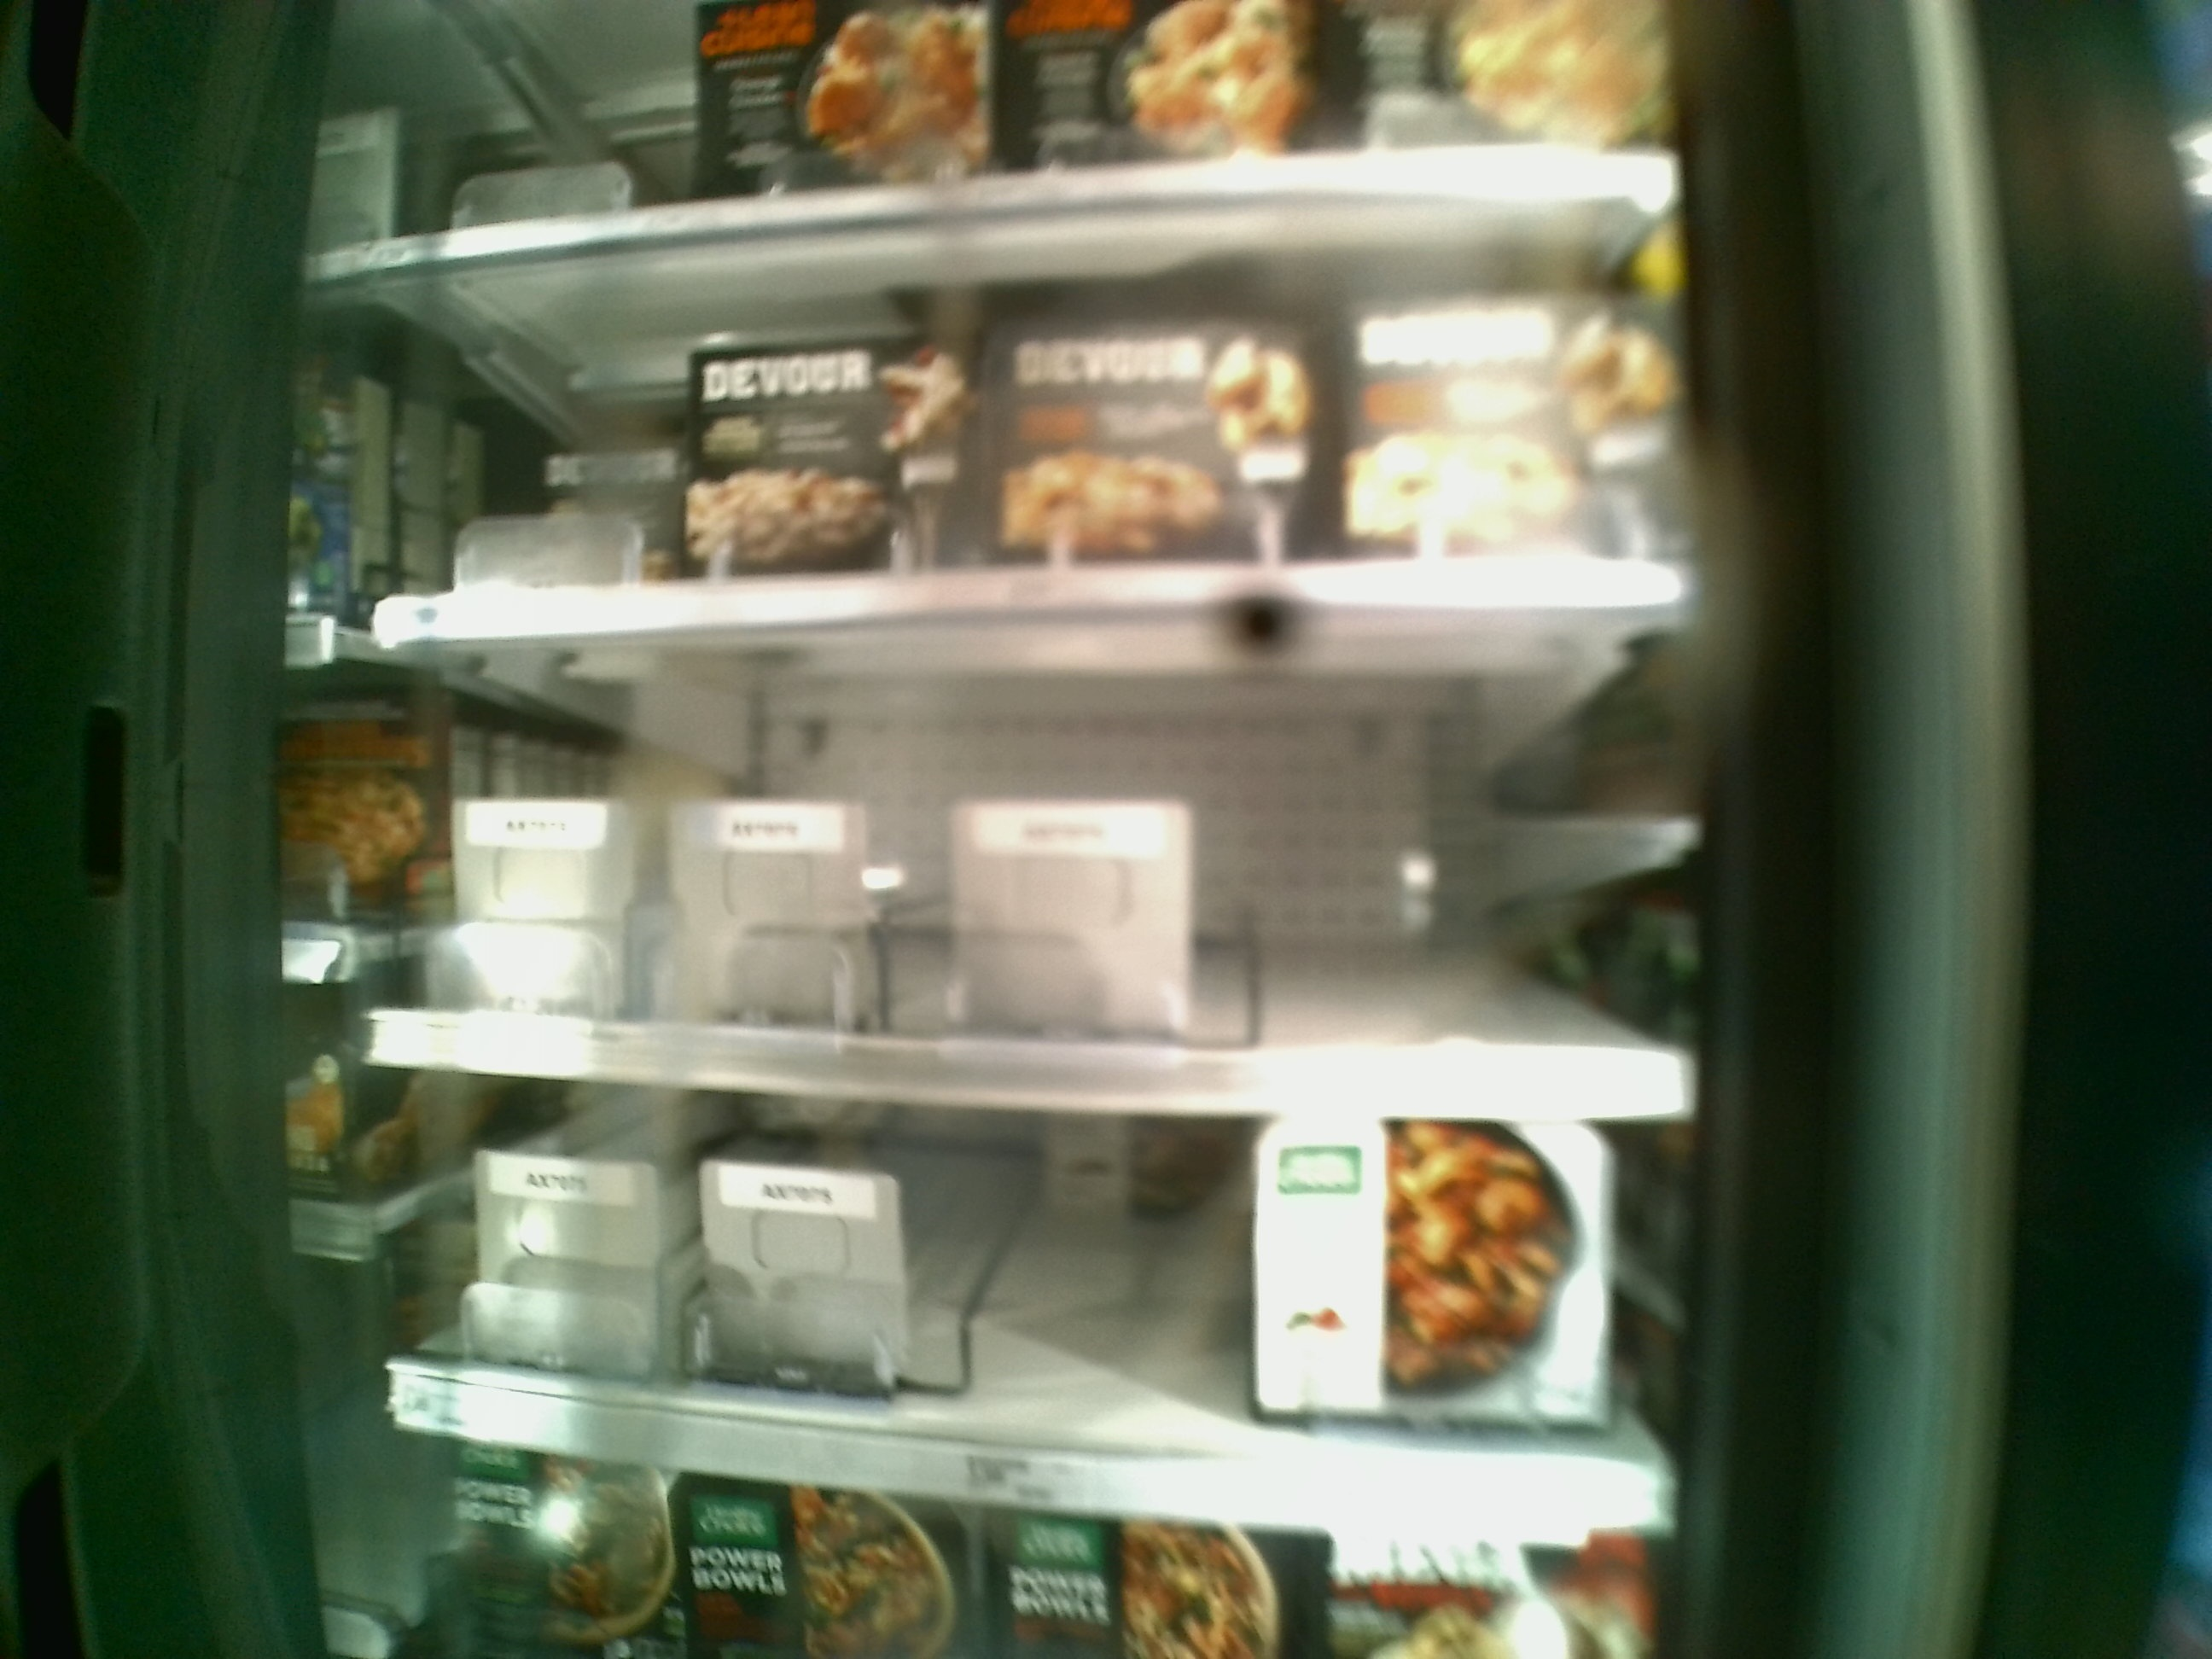shelf: (380, 652, 1716, 1122), (369, 1073, 1669, 1535), (348, 202, 1691, 620)
